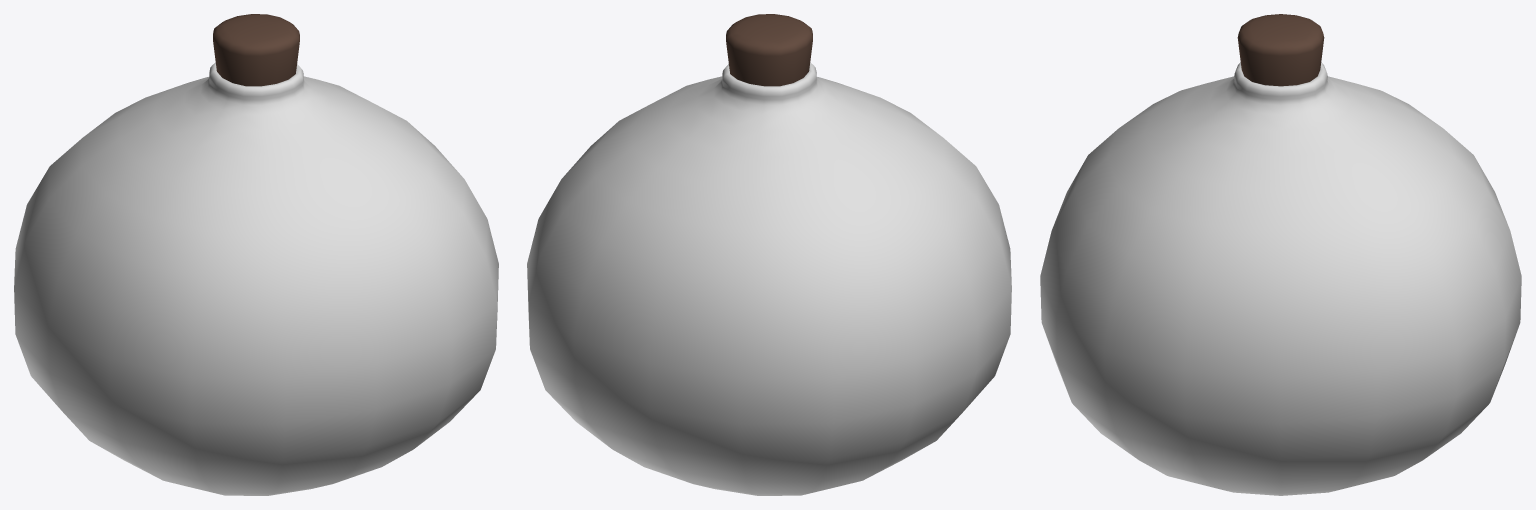
File: Potion9_Empty.glb
3 views of the same model, side by side, from view 1: azimuth 30°, elevation 25°; view 2: azimuth 150°, elevation 25°; view 3: azimuth 270°, elevation 25° (orthographic).
Parts seen in each view (by area): view 1: Potion9_Empty; view 2: Potion9_Empty; view 3: Potion9_Empty.
Part boxes in pixels (box(x1,y1,x2,y2)): Potion9_Empty: box(14, 14, 498, 495); Potion9_Empty: box(527, 14, 1011, 495); Potion9_Empty: box(1040, 14, 1521, 495).
Size of the model in its own units: 1.26 by 1.29 by 1.26.
